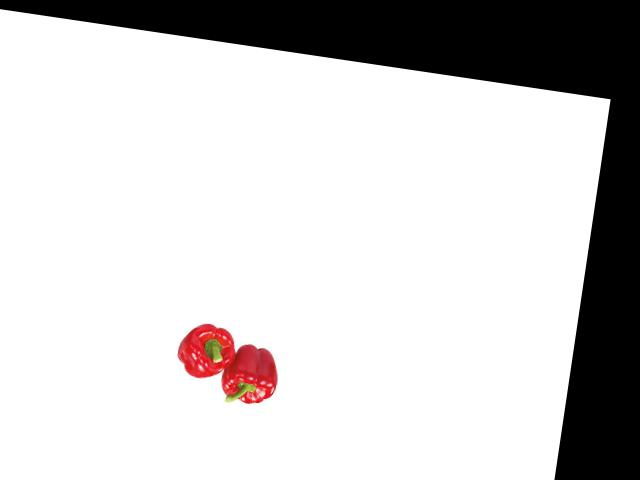bell_pepper: (216, 336, 284, 411)
